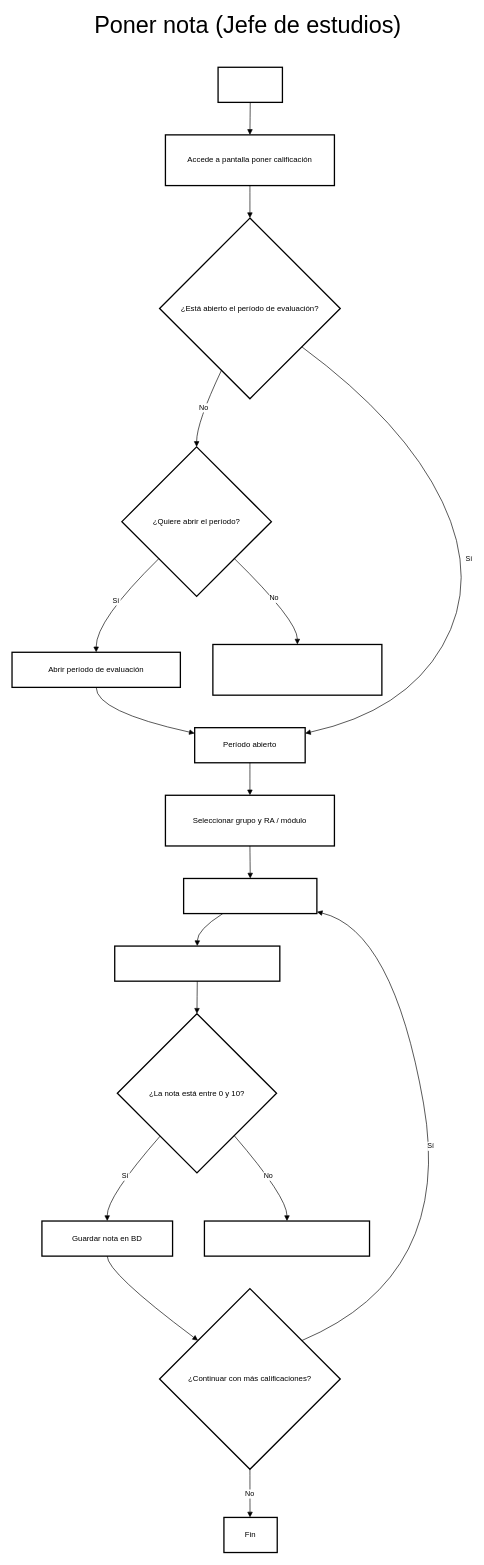
The diagram is 484 pixels wide and 1565 high, and some of its shapes have lost their labels. Each missing label, with the box of its shape:
Inicio: (217, 66, 283, 103)
Introducir o modificar nota: (114, 945, 280, 982)
Mostrar error de validación: (203, 1220, 370, 1256)
Mostrar mensaje: Período cerrado: (212, 644, 382, 696)
Ver lista de alumnos: (183, 878, 317, 914)
